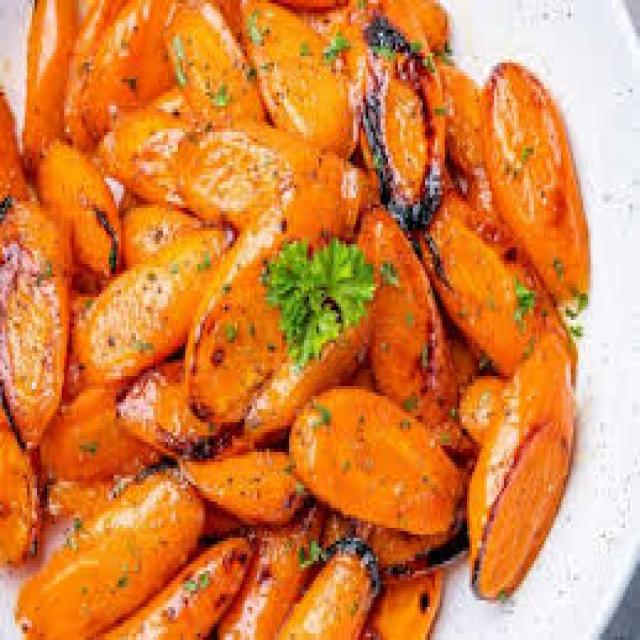Carrot: (181, 177, 345, 425), (270, 364, 455, 564), (471, 326, 578, 622), (483, 69, 604, 314), (18, 488, 189, 624), (69, 238, 221, 373), (209, 11, 342, 145), (0, 158, 40, 449), (159, 150, 352, 203)
